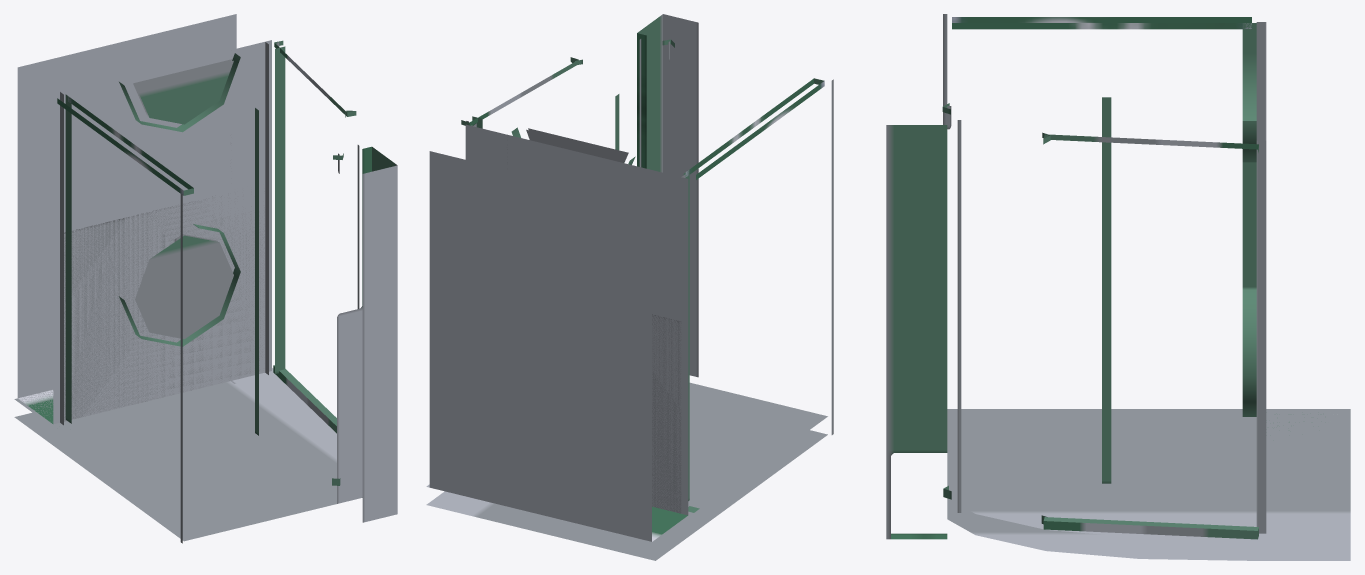
File: section-1.obj
3 views of the same model, side by side, from view 1: azimuth 30°, elevation 25°; view 2: azimuth 150°, elevation 25°; view 3: azimuth 270°, elevation 25° (orthographic). The views are drawn at different scales.
Size of the model in its own units: 0.6827 by 0.975 by 0.99.
